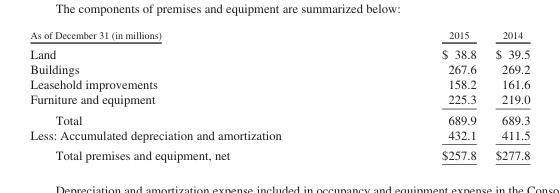table: (29, 28, 529, 161)
table column: (29, 28, 360, 161), (360, 28, 485, 161), (485, 28, 529, 161)
table column header: (29, 28, 529, 43)
table row: (29, 43, 529, 61), (29, 91, 529, 109), (29, 126, 529, 144), (29, 109, 529, 126), (29, 144, 529, 161), (29, 28, 529, 43), (29, 61, 529, 76), (29, 76, 529, 91)
